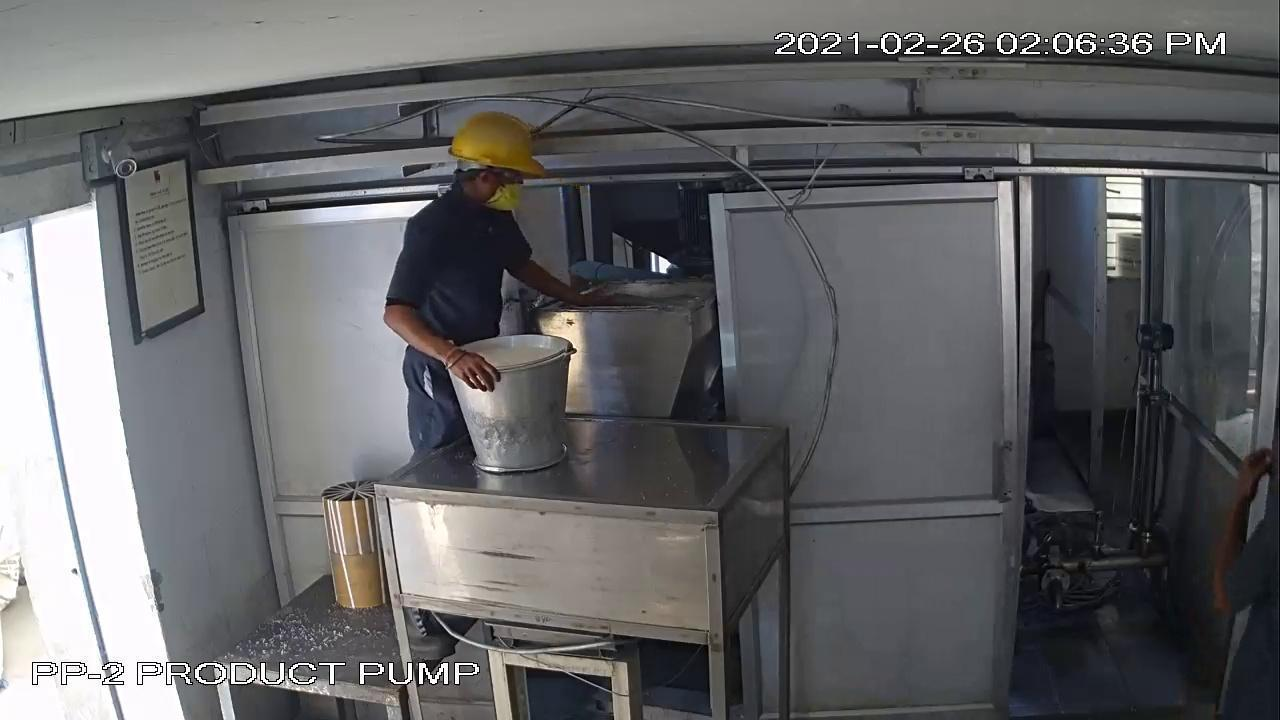helmet: (426, 110, 558, 178)
